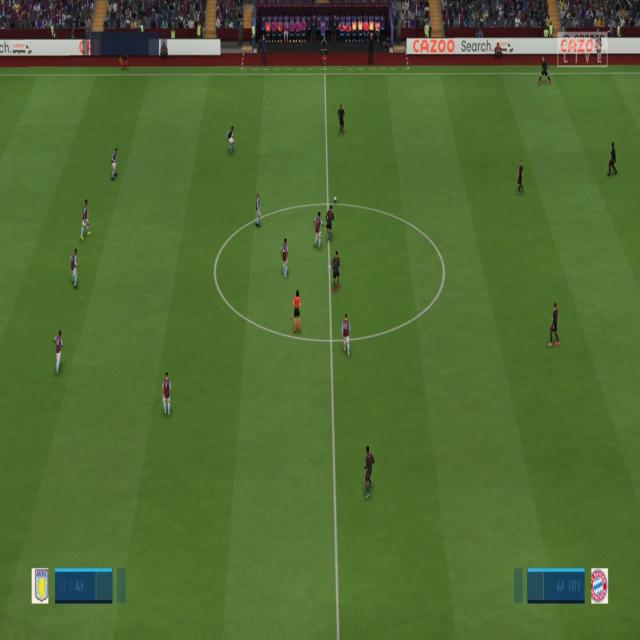Ball: (332, 195, 339, 203)
Referee: (291, 290, 302, 335)
Team-A: (364, 444, 376, 499), (548, 301, 561, 346), (606, 143, 618, 178), (332, 252, 343, 288), (539, 58, 553, 84), (326, 209, 336, 239), (516, 162, 525, 195), (338, 107, 347, 138)
Team-H: (52, 329, 64, 375), (161, 373, 173, 418), (79, 199, 91, 242), (312, 212, 324, 250), (342, 314, 352, 355), (280, 237, 290, 277), (70, 250, 80, 288), (256, 191, 265, 228), (111, 149, 121, 182), (226, 125, 236, 156)
